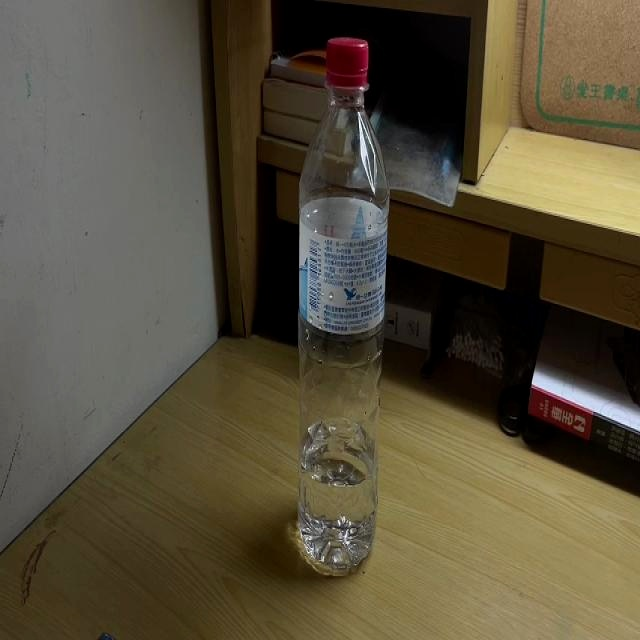Water: (296, 39, 388, 580)
